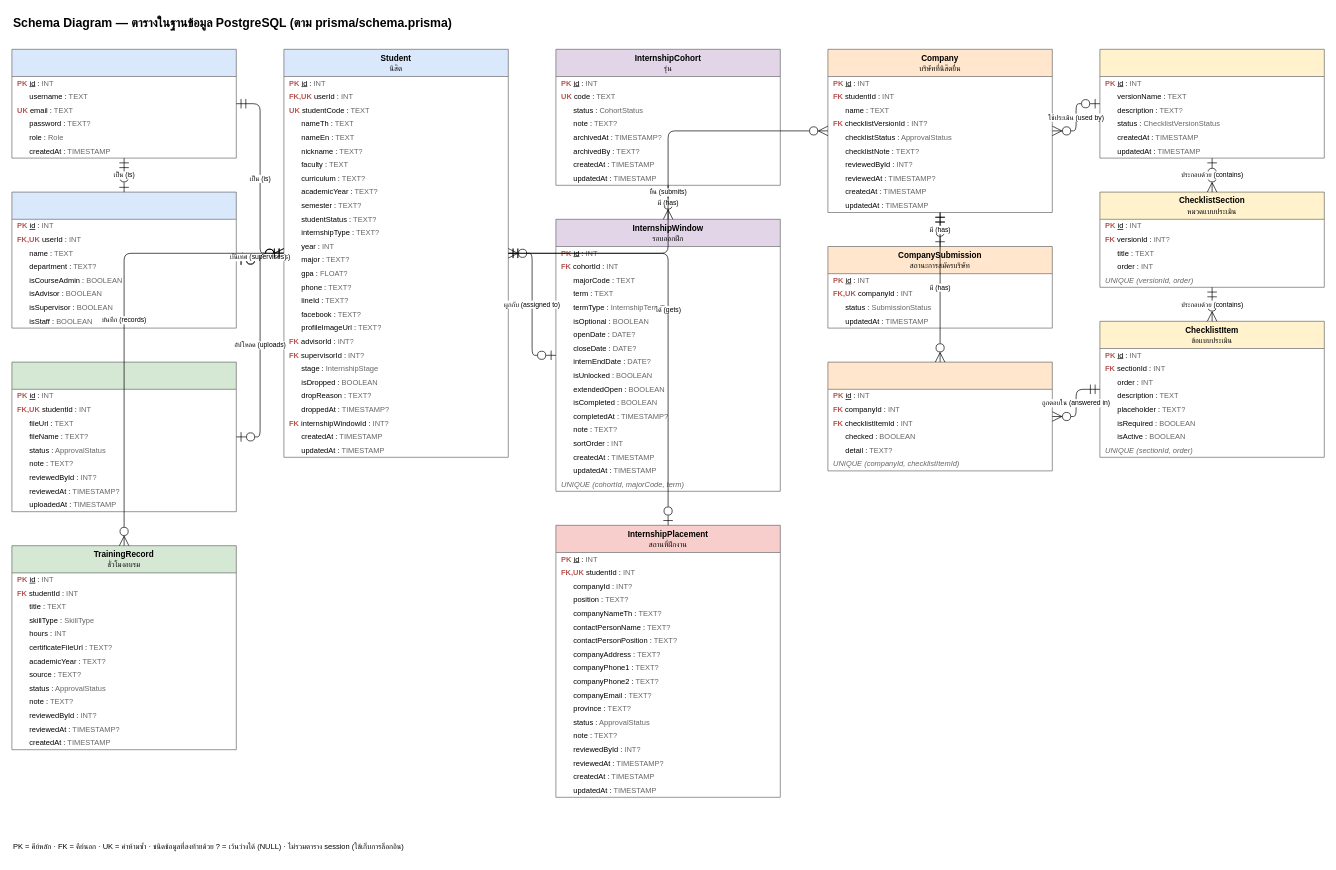
Image size: 1336x870. Some labels were removed from this diagram. Here are the shapes that lost their labels. From the top down, the box of each, then its label:
(11, 49, 236, 158): User ผู้ใช้
(1099, 49, 1324, 158): ChecklistVersion เวอร์ชันแบบประเมิน
(11, 191, 236, 328): Staff บุคลากร
(827, 361, 1052, 471): CompanyChecklistAnswer คำตอบแบบประเมิน
(11, 361, 236, 512): StudentCV CV นิสิต
